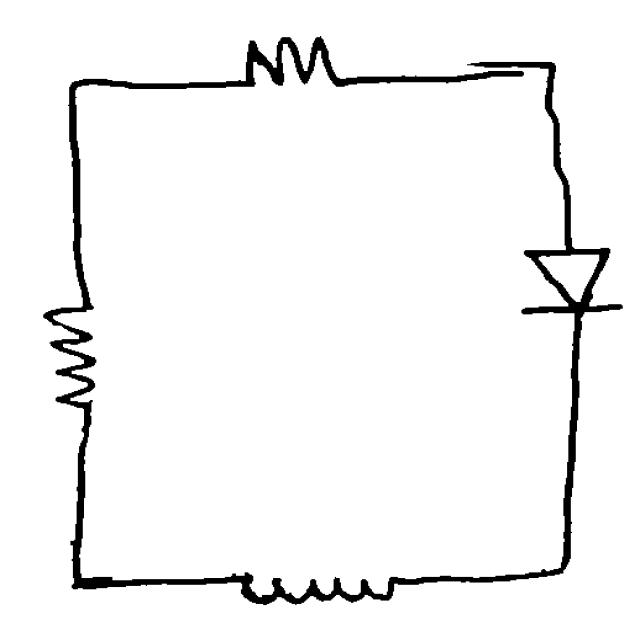diode: (502, 232, 634, 336)
inductor: (228, 558, 410, 618)
resistor: (26, 281, 118, 436), (222, 25, 354, 109)
